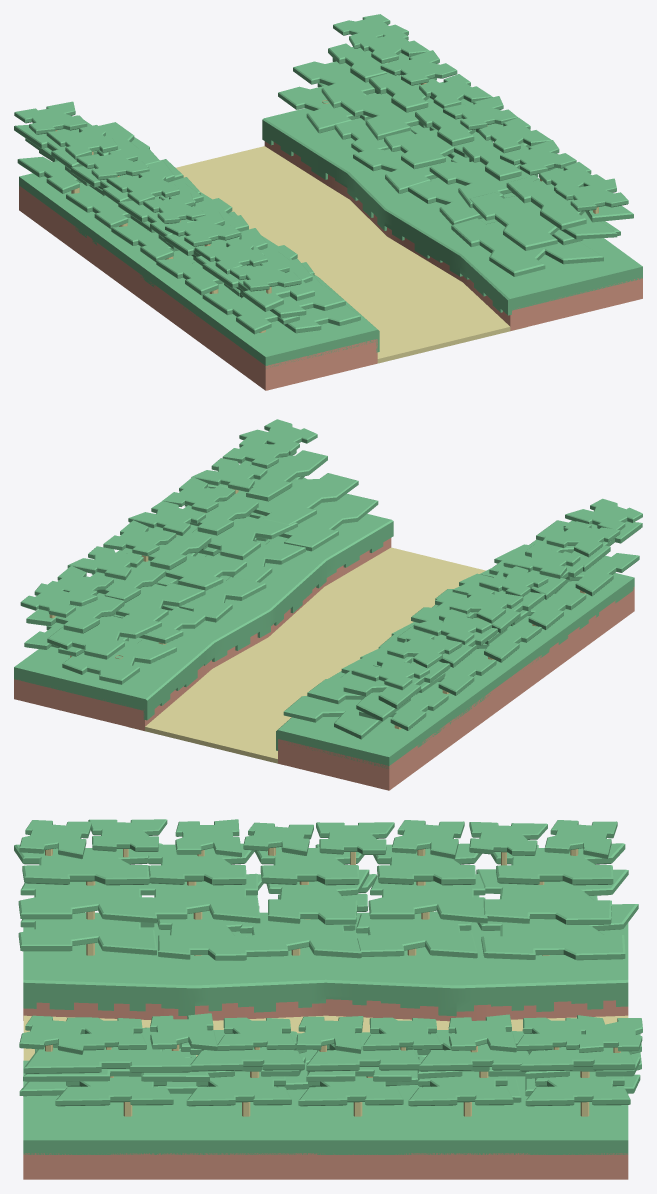
The model's file is road_2_inv.fbx.
3 renders of one model, top to bottom at view 1: azimuth 30°, elevation 25°; view 2: azimuth 150°, elevation 25°; view 3: azimuth 270°, elevation 25°, orthographic. The views are drawn at different scales.
Visible parts, largest first — view 1: L_side, R_side, road_m; view 2: L_side, R_side, road_m; view 3: R_side, L_side, road_m.
Part boxes in pixels (x1,y1,x2,y2): L_side: [262, 14, 642, 330]; R_side: [14, 101, 379, 390]; road_m: [176, 146, 525, 363]; L_side: [14, 419, 393, 730]; R_side: [276, 498, 642, 790]; road_m: [129, 547, 485, 763]; R_side: [14, 819, 638, 1021]; L_side: [19, 1013, 642, 1179]; road_m: [23, 1015, 628, 1060].
Bounding box in the file's own units: 55.16 × 14.08 × 62.79.
